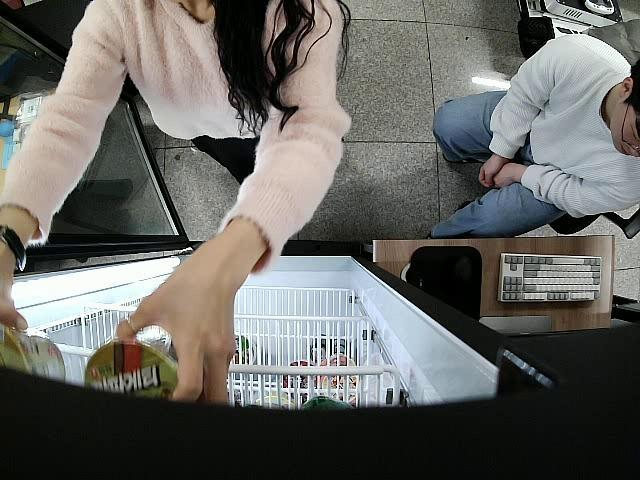04_chapagetti_S: (80, 336, 189, 415), (0, 321, 74, 387)
